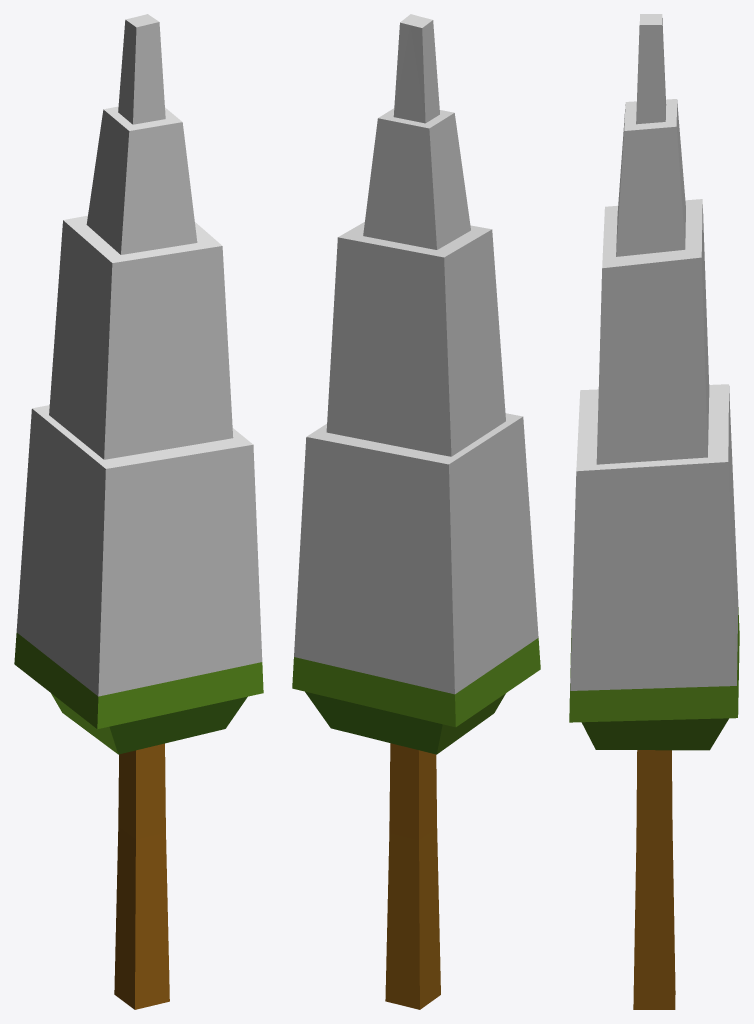
The model's file is SF_Env_Tree_Snow_11.fbx.
The picture shows the model from 3 angles, left to right: view 1: azimuth 30°, elevation 25°; view 2: azimuth 150°, elevation 25°; view 3: azimuth 270°, elevation 25°; orthographic projection.
Parts seen in each view (by area): view 1: SF_Env_Tree_Snow_11; view 2: SF_Env_Tree_Snow_11; view 3: SF_Env_Tree_Snow_11.
Boxes of the visible parts, x1,y1,x2,y2 form: SF_Env_Tree_Snow_11: (14, 14, 263, 1009); SF_Env_Tree_Snow_11: (292, 14, 540, 1009); SF_Env_Tree_Snow_11: (569, 14, 739, 1009).
Bounding box in the file's own units: 2.29 × 12.92 × 2.03.
